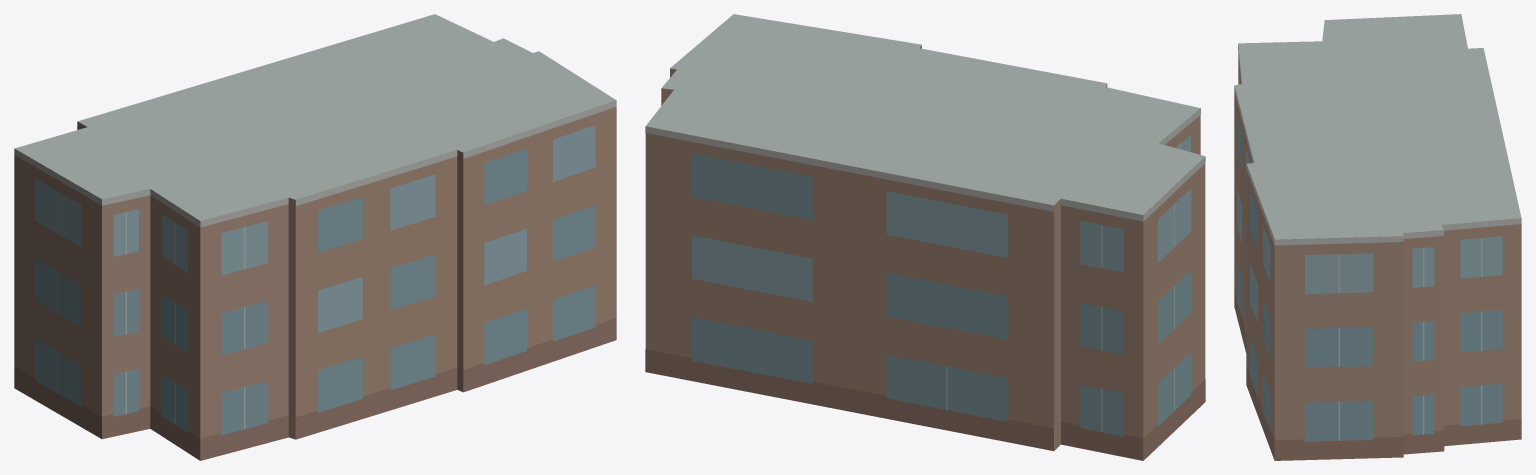
Rendered from survey-upis-32588507.glb.
3 renders of one model, left to right at view 1: azimuth 30°, elevation 25°; view 2: azimuth 150°, elevation 25°; view 3: azimuth 270°, elevation 25°, orthographic. The views are drawn at different scales.
Visible parts, largest first — view 1: survey-upis-32588507.tmp; view 2: survey-upis-32588507.tmp; view 3: survey-upis-32588507.tmp.
Part boxes in pixels (bbox=[...]): survey-upis-32588507.tmp: bbox=[14, 14, 616, 460]; survey-upis-32588507.tmp: bbox=[645, 14, 1205, 460]; survey-upis-32588507.tmp: bbox=[1234, 14, 1521, 460].
Size of the model in its own units: 20.02 by 9.15 by 10.77.
